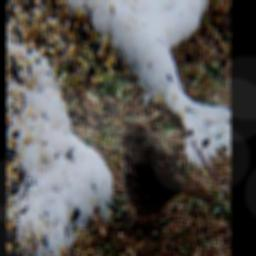Sparrow: (116, 118, 213, 233)
